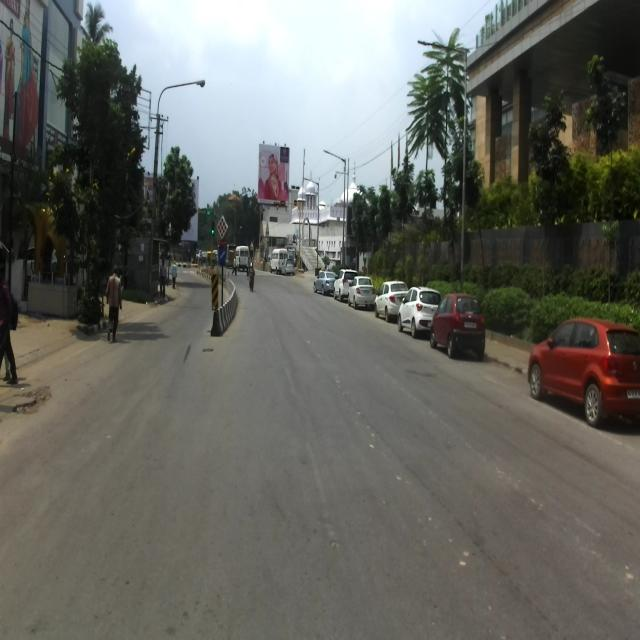car: (527, 312, 639, 427), (428, 293, 486, 359), (397, 286, 441, 339), (374, 280, 411, 322), (348, 275, 375, 310), (333, 268, 358, 303)
mini-bus: (270, 247, 288, 274)
